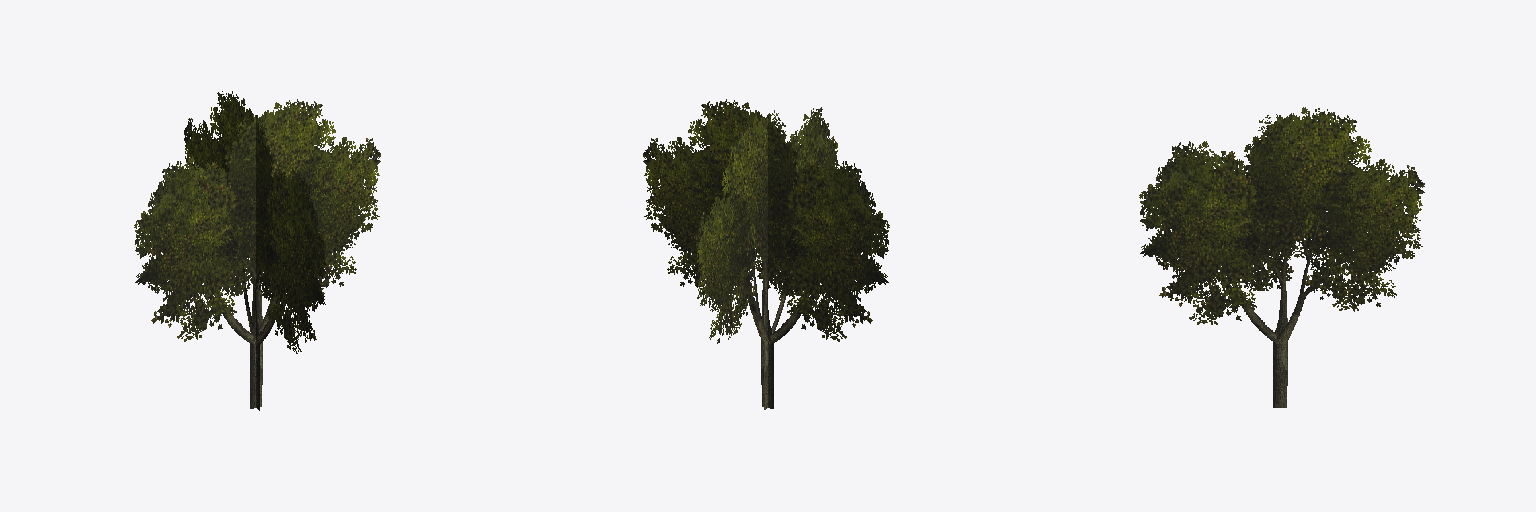
3 renders of one model, left to right at view 1: azimuth 30°, elevation 25°; view 2: azimuth 150°, elevation 25°; view 3: azimuth 270°, elevation 25°, orthographic.
Parts seen in each view (by area): view 1: CreateFan; view 2: CreateFan; view 3: CreateFan.
Boxes of the visible parts, x1=… form: CreateFan: x1=134, y1=91, x2=380, y2=410; CreateFan: x1=643, y1=99, x2=889, y2=409; CreateFan: x1=1139, y1=107, x2=1424, y2=407.
Size of the model in its own units: 7.41 by 7.5 by 7.41.
1 materials, 1 textured.